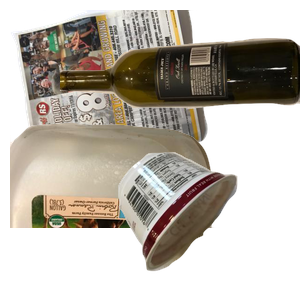glass: (60, 36, 300, 147)
paper: (10, 10, 210, 175)
plastic: (10, 120, 220, 300)
trash: (116, 149, 300, 300)
